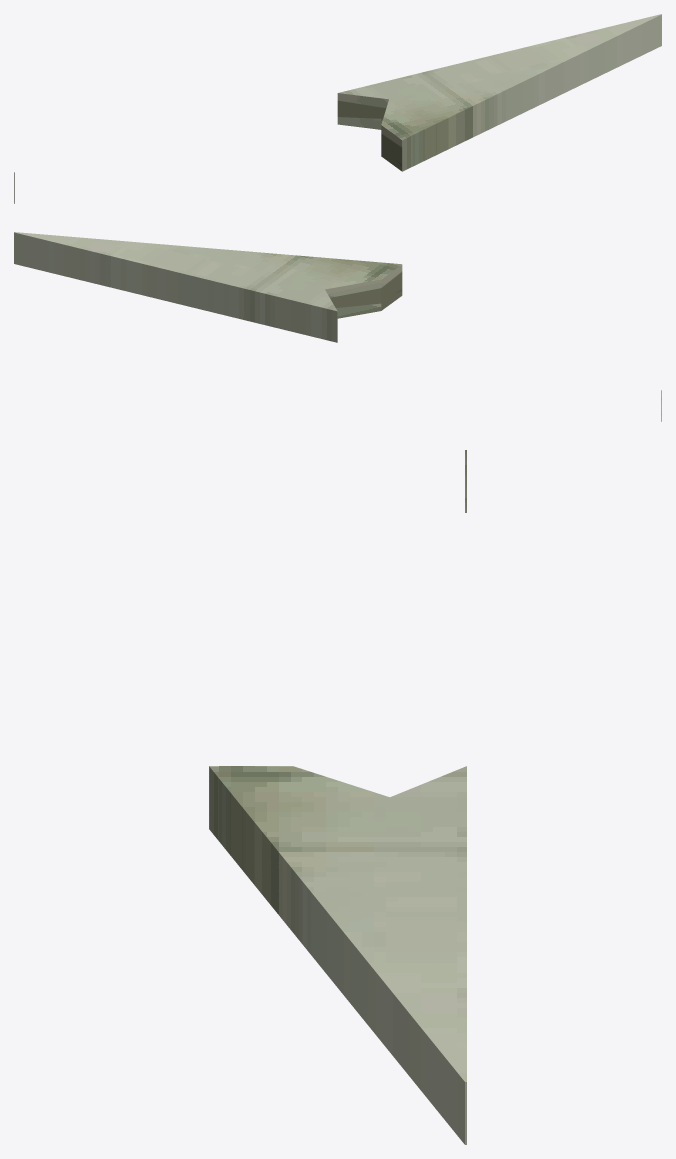
Rendered from 090_DP_housetriangle2.gltf.
3 renders of one model, top to bottom at view 1: azimuth 30°, elevation 25°; view 2: azimuth 150°, elevation 25°; view 3: azimuth 270°, elevation 25°, orthographic. The views are drawn at different scales.
Parts seen in each view (by area): view 1: DP_housetriangle2; view 2: DP_housetriangle2; view 3: DP_housetriangle2.
Boxes of the visible parts, x1,y1,x2,y2 form: DP_housetriangle2: (14,14,661,203); DP_housetriangle2: (14,232,661,421); DP_housetriangle2: (209,450,466,1144).
Bounding box in the file's own units: 18.39 × 0.8549 × 3.17.
Materials: 1 (1 with a texture image).
